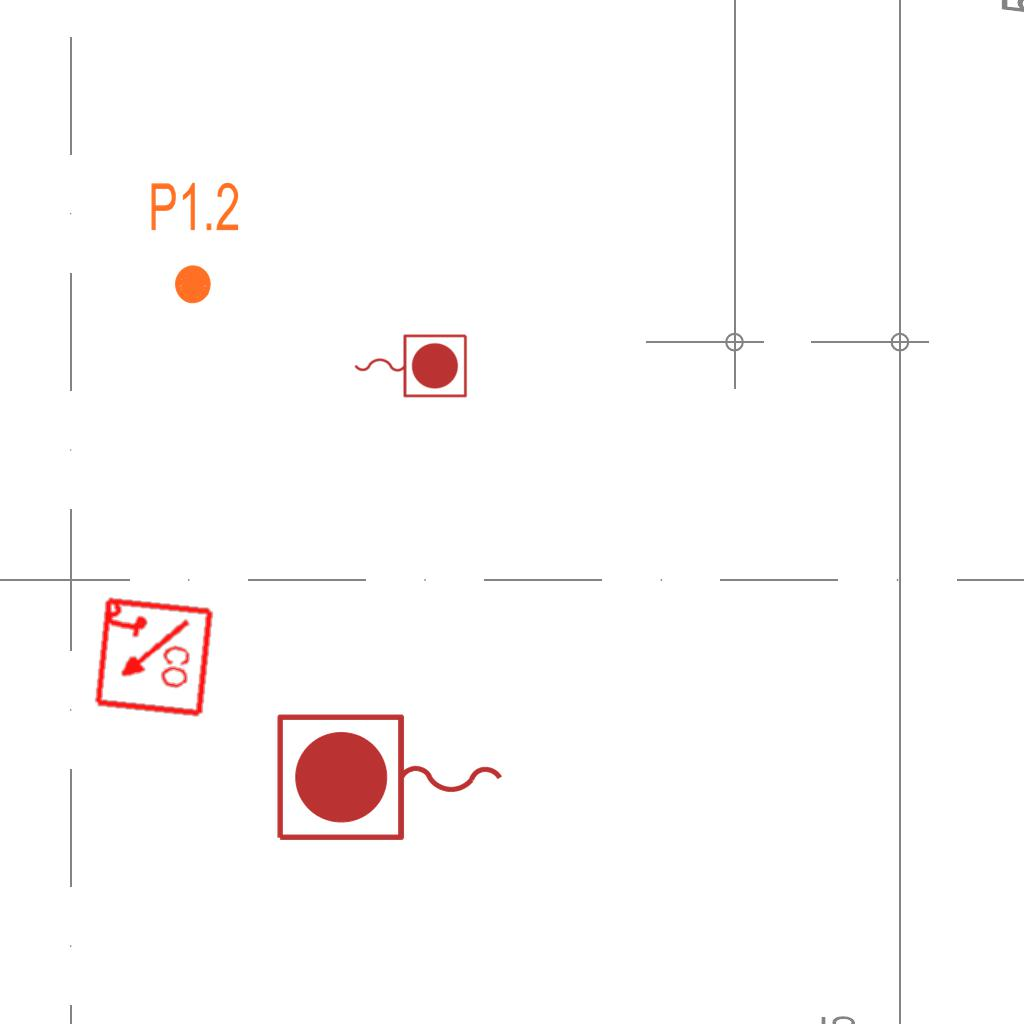Downlight_LED_Einbauleuchten_Flur: (148, 179, 241, 307)
ROA_Rauchmelder_optisch_mit_Signalgeber_(Sockelsirene): (90, 595, 215, 720)
Zugtaster: (269, 707, 513, 851), (349, 329, 471, 401)
